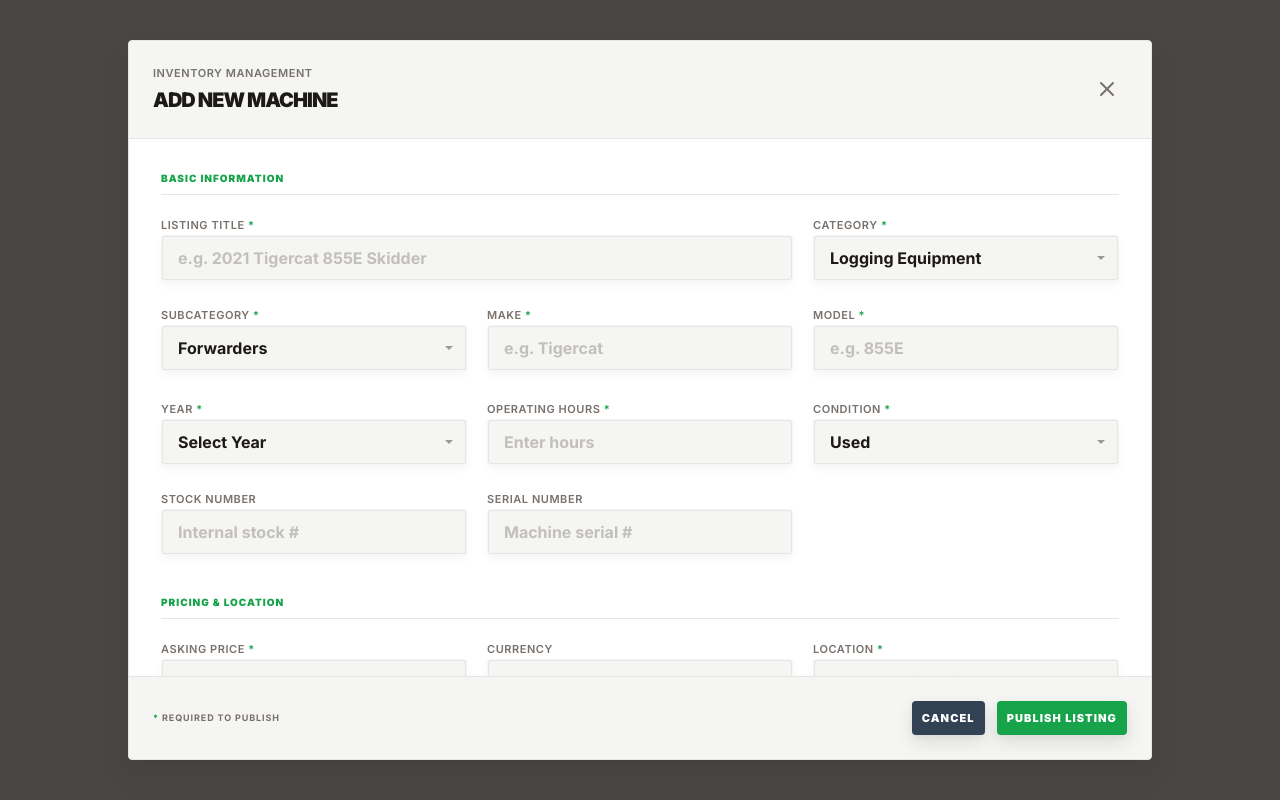
ListingModal component › shows validation when required listing fields are missing
The image size is (1280, 800).
Click the button "Publish Listing" at (1062, 718), box x1=997 y1=701 x2=1127 y2=735
(page scrolled)
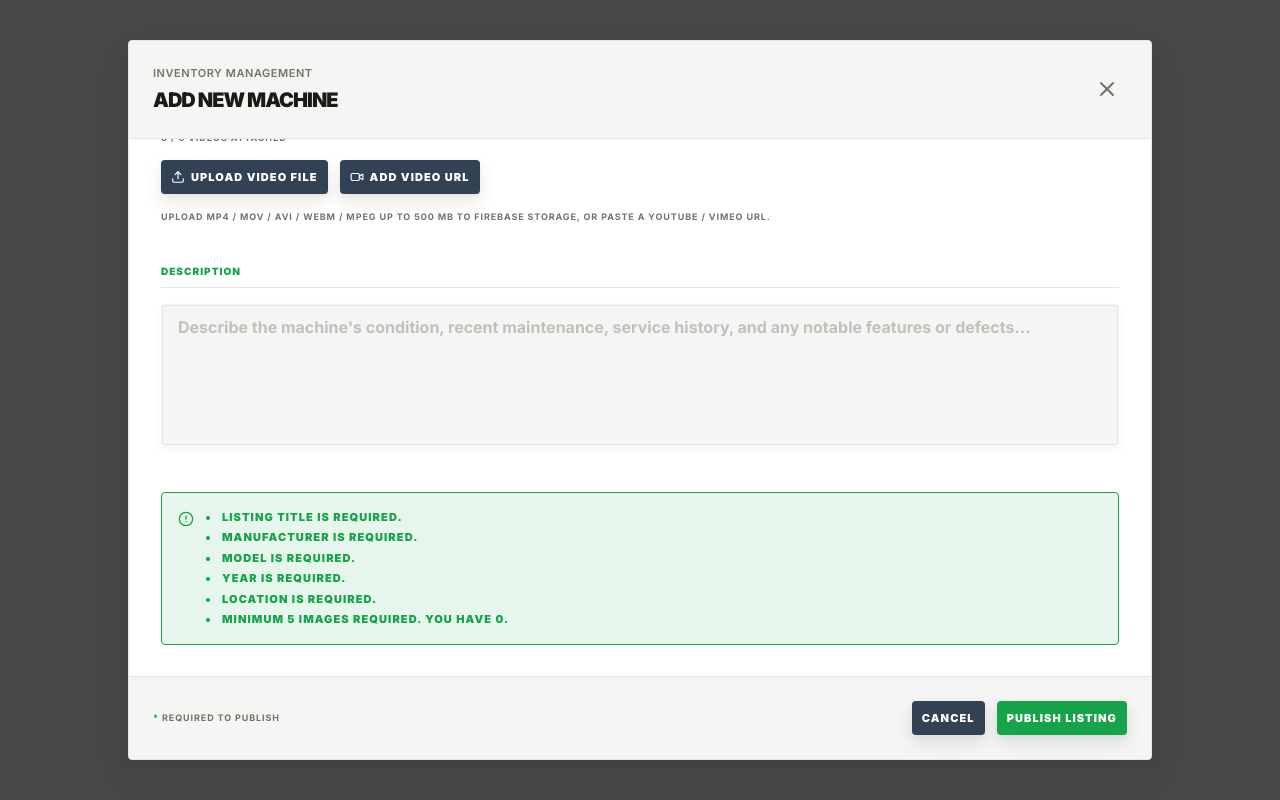
Check: the list item "Listing title is required." is shown, box x1=222 y1=510 x2=403 y2=524
